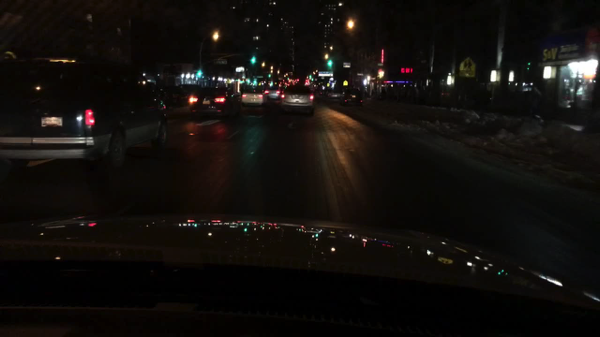car: (0, 59, 168, 173), (188, 86, 241, 120), (164, 84, 203, 117), (281, 84, 315, 111), (239, 86, 266, 106), (341, 88, 364, 105), (263, 86, 284, 103), (326, 88, 345, 104)
traffic light: (250, 55, 257, 66), (195, 69, 203, 77), (326, 59, 333, 68), (252, 80, 258, 86), (245, 80, 250, 86), (267, 73, 272, 78)
traffic sign: (458, 57, 477, 77), (318, 71, 333, 77), (213, 59, 228, 65)
